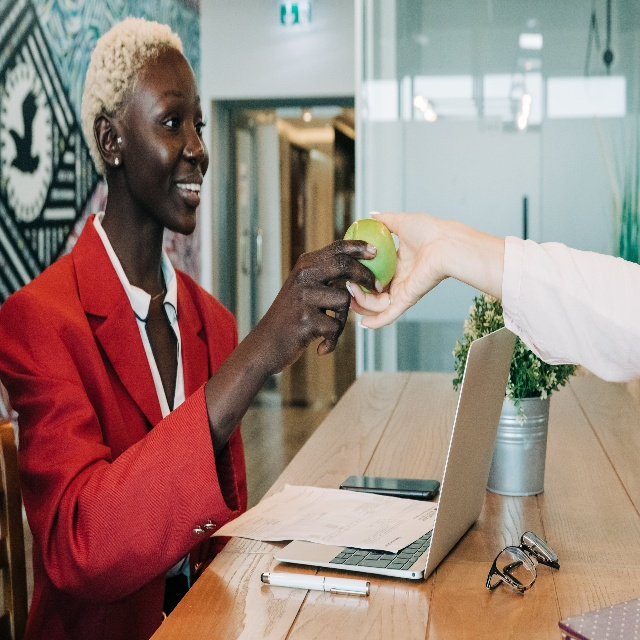Gafas: (483, 526, 557, 597)
Sin_guantes: (266, 236, 383, 378), (344, 208, 448, 330)
